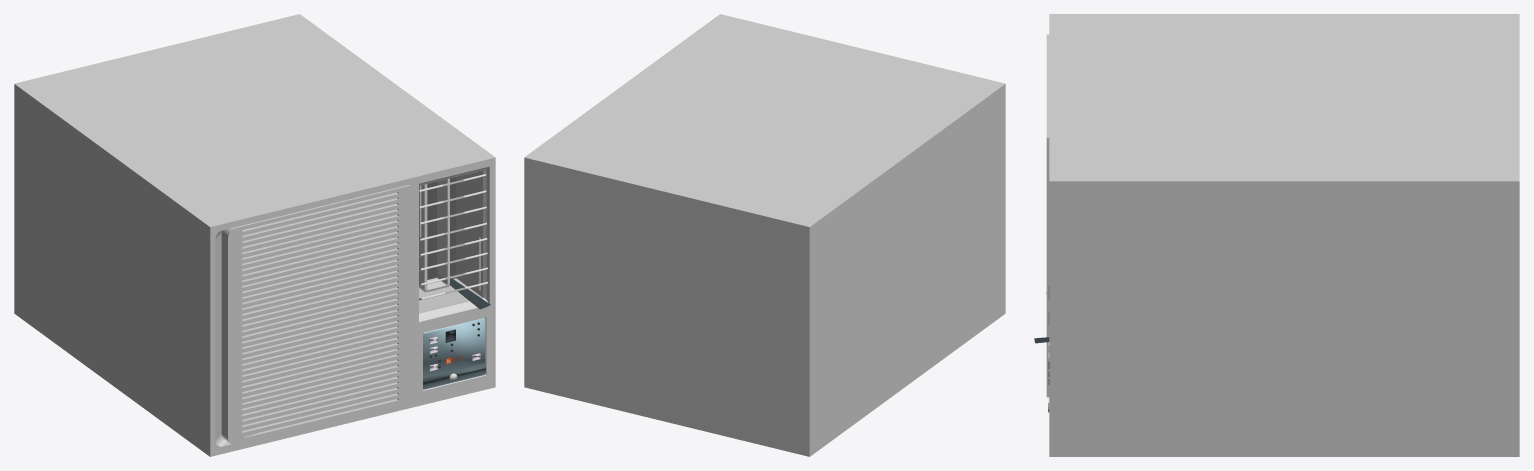
The model's file is KOLIN KAM-75DRC32.glb.
3 renders of one model, left to right at view 1: azimuth 30°, elevation 25°; view 2: azimuth 150°, elevation 25°; view 3: azimuth 270°, elevation 25°, orthographic. The views are drawn at different scales.
Visible parts, largest first — view 1: Cube, Cube.003, Cube.018, Cube.013, Plane.001, Cube.004; view 2: Cube; view 3: Cube.
Boxes of the visible parts, box(x1,y1,x2,y2) form: Cube: box(14, 14, 495, 456); Cube.003: box(423, 318, 485, 389); Cube.018: box(419, 178, 449, 292); Cube.013: box(419, 174, 487, 300); Plane.001: box(427, 177, 456, 279); Cube.004: box(423, 363, 485, 389); Cube: box(524, 14, 1005, 456); Cube: box(1046, 14, 1519, 456).
Size of the model in its own units: 0.45 by 0.346 by 0.552.
Materials: 18 (1 with a texture image).
